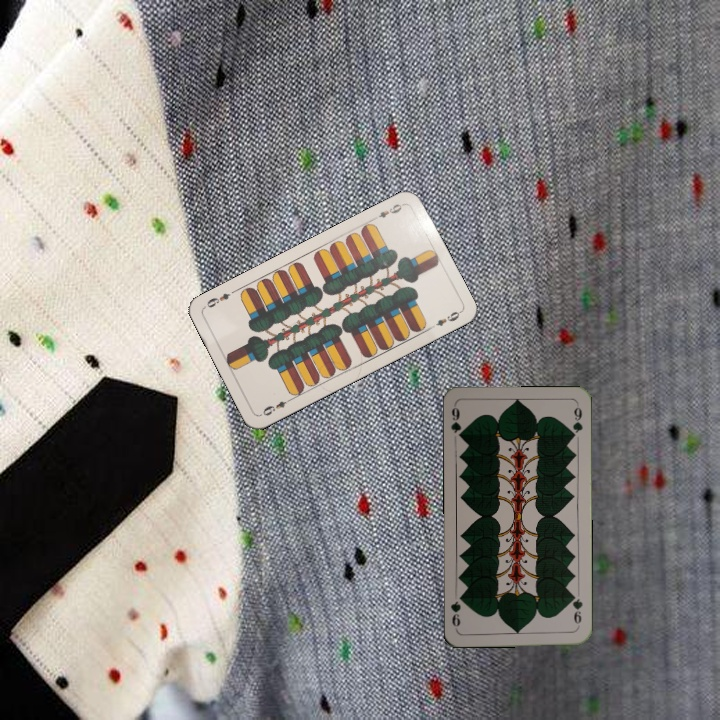E9: (257, 394, 295, 418), (369, 199, 407, 223)
G9: (447, 402, 466, 442), (568, 590, 585, 630)
